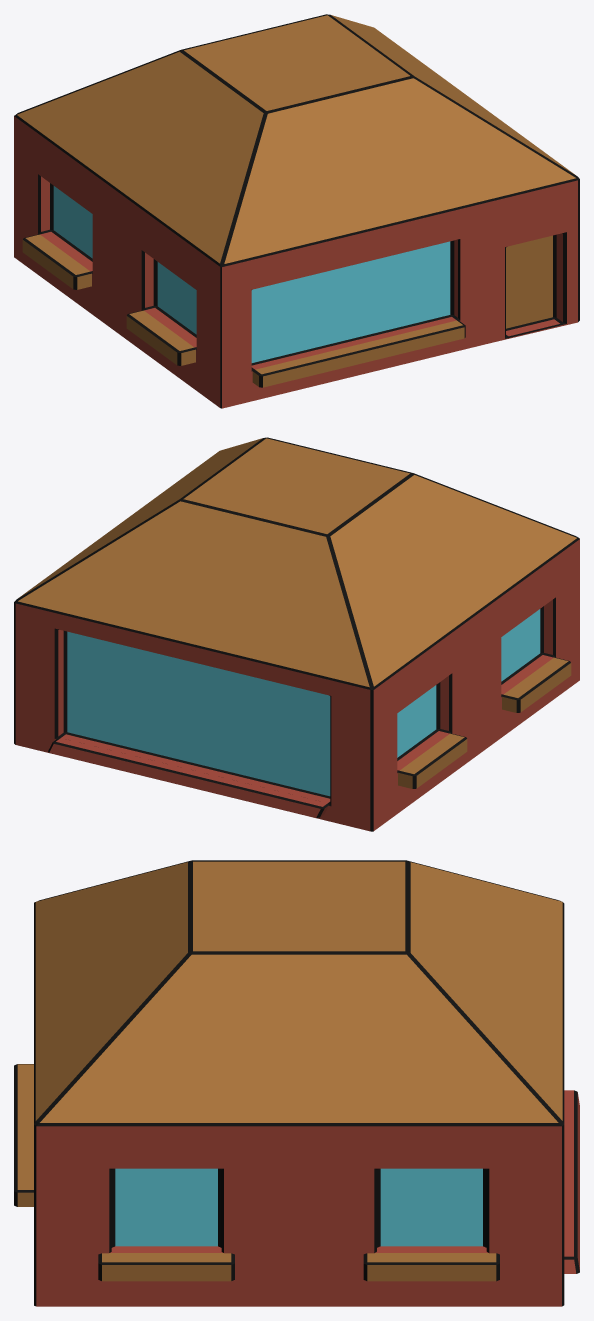
Rendered from House1.fbx.
The picture shows the model from 3 angles, top to bottom: view 1: azimuth 30°, elevation 25°; view 2: azimuth 150°, elevation 25°; view 3: azimuth 270°, elevation 25°; orthographic projection. The views are drawn at different scales.
Parts seen in each view (by area): view 1: Cube.002; view 2: Cube.002; view 3: Cube.002.
Part boxes in pixels (<box>): Cube.002: <box>14,14,579,408</box>; Cube.002: <box>14,437,579,831</box>; Cube.002: <box>14,860,579,1306</box>.
Size of the model in its own units: 2.9 by 1.6 by 2.83.
